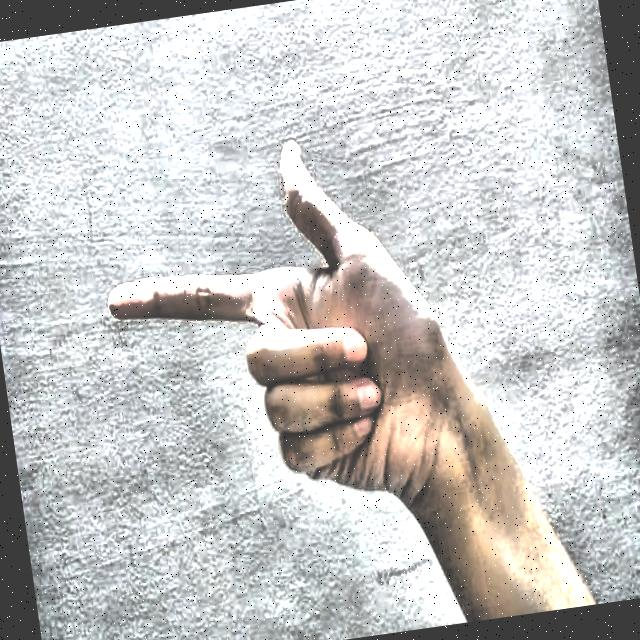Tho: (61, 76, 556, 557)
